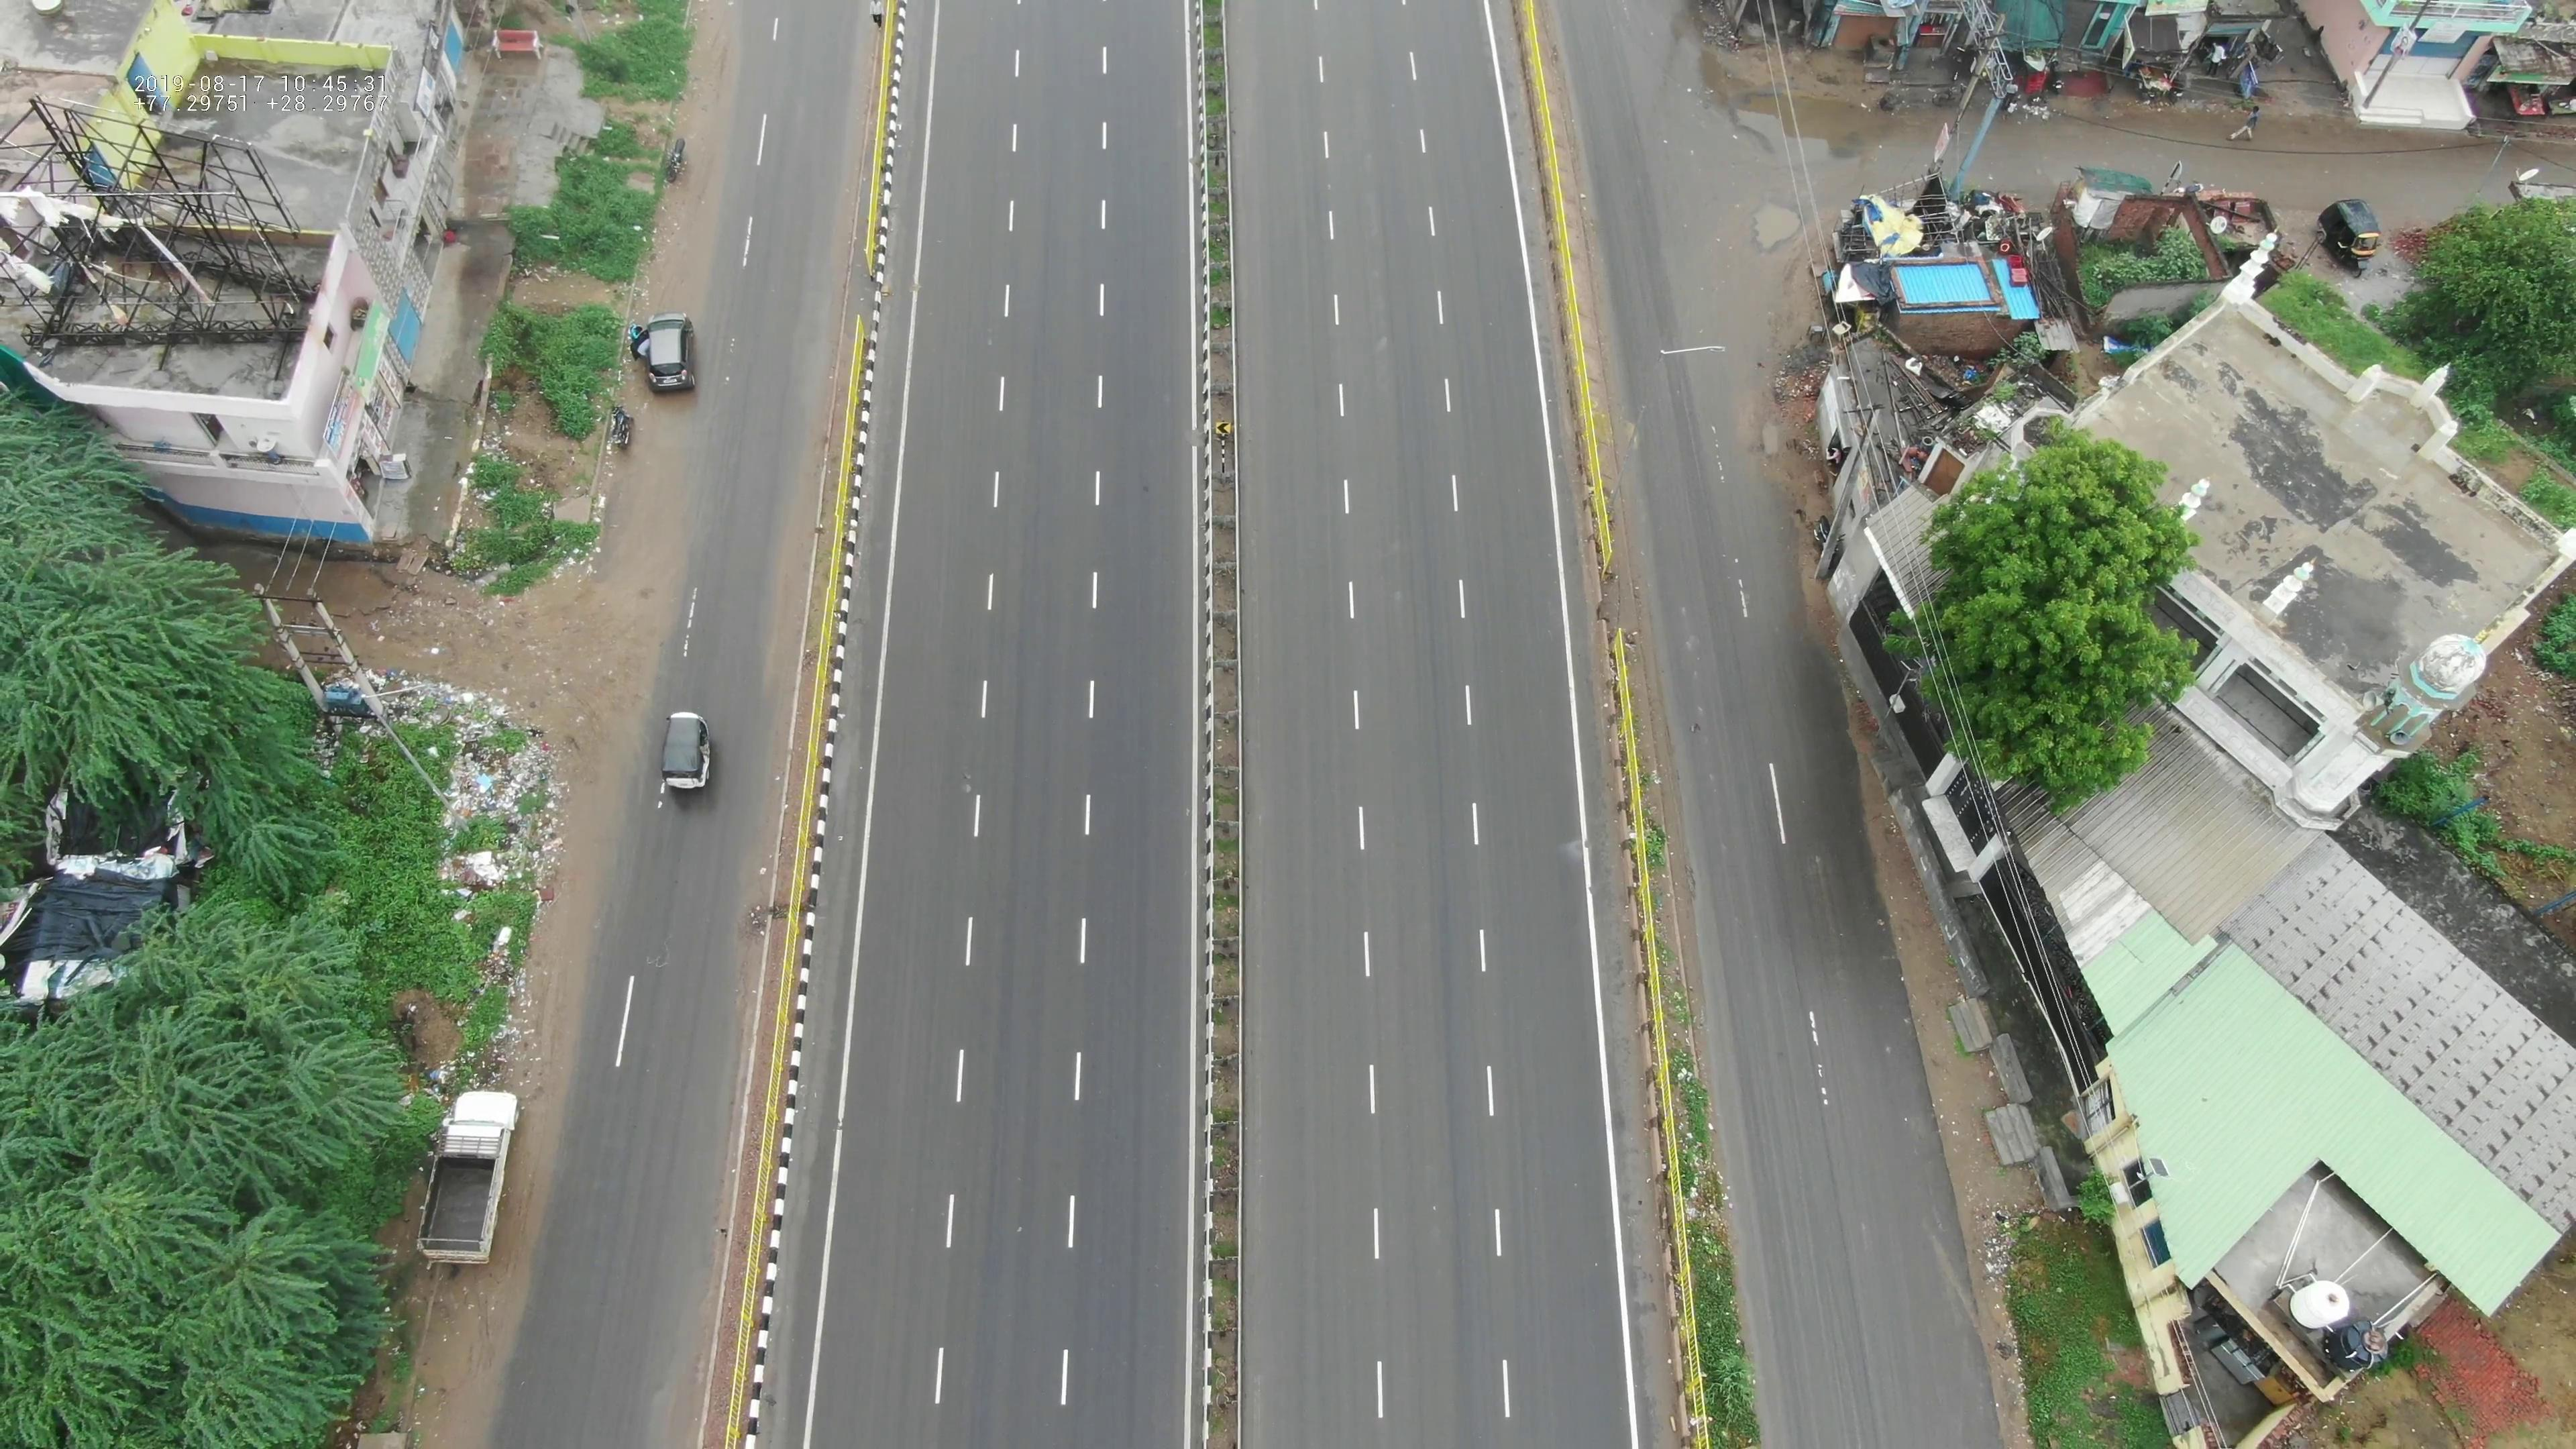Muddy_road: (584, 481, 660, 653), (653, 193, 727, 311)
Road_side_garbage: (377, 662, 566, 892)
